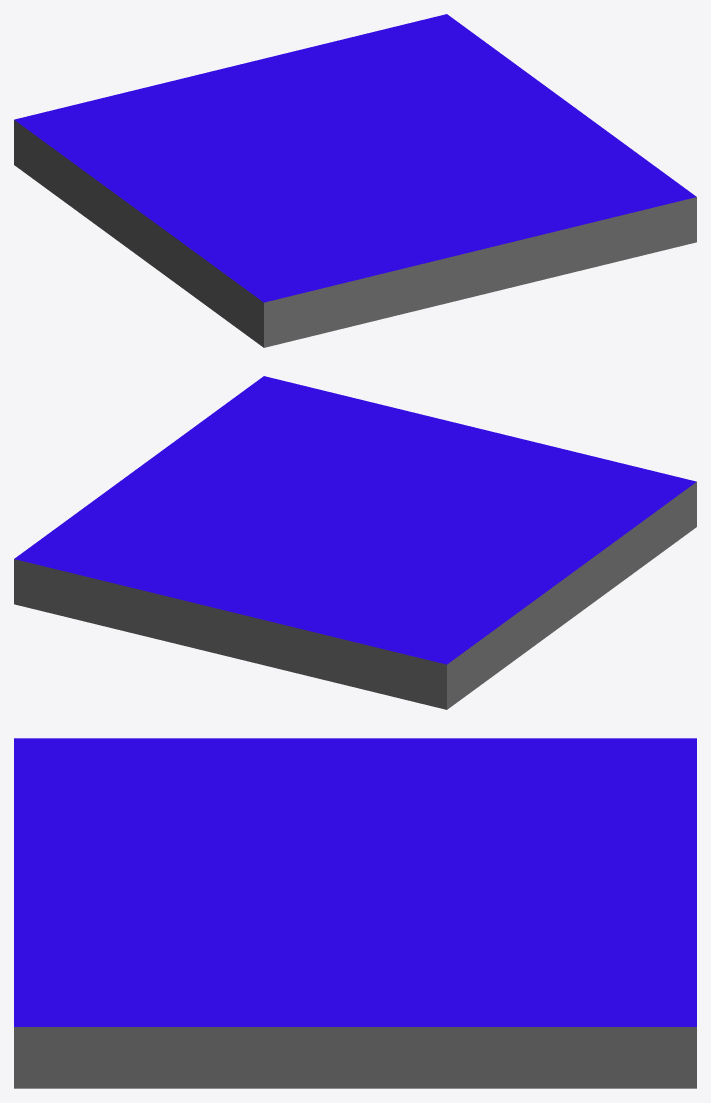
The model's file is ModularFloor_V2_MES.FBX.
The picture shows the model from 3 angles, top to bottom: view 1: azimuth 30°, elevation 25°; view 2: azimuth 150°, elevation 25°; view 3: azimuth 270°, elevation 25°; orthographic projection. The views are drawn at different scales.
Visible parts, largest first — view 1: ModularFloor; view 2: ModularFloor; view 3: ModularFloor.
Part boxes in pixels (x1=…): ModularFloor: x1=14, y1=14, x2=696, y2=347; ModularFloor: x1=14, y1=376, x2=696, y2=709; ModularFloor: x1=14, y1=738, x2=696, y2=1088.
Bounding box in the file's own units: 100 × 10 × 100.
